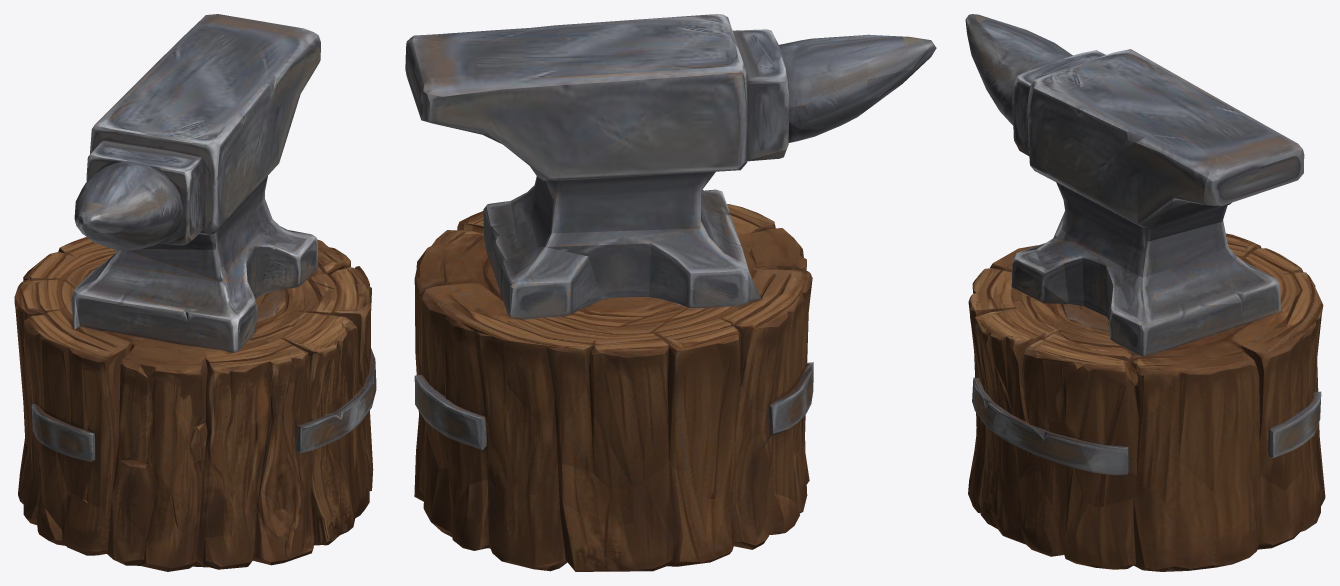
The model's file is anvil_3d.glb.
The picture shows the model from 3 angles, left to right: view 1: azimuth 30°, elevation 25°; view 2: azimuth 150°, elevation 25°; view 3: azimuth 270°, elevation 25°; orthographic projection. The views are drawn at different scales.
Parts seen in each view (by area): view 1: Mesh_0; view 2: Mesh_0; view 3: Mesh_0.
Part boxes in pixels (left/top/right/bottom): Mesh_0: left=14, top=14, right=376, bottom=571; Mesh_0: left=405, top=14, right=936, bottom=571; Mesh_0: left=965, top=14, right=1325, bottom=571.
Bounding box in the file's own units: 0.6343 × 0.6875 × 0.5584.
Materials: 1 (1 with a texture image).
